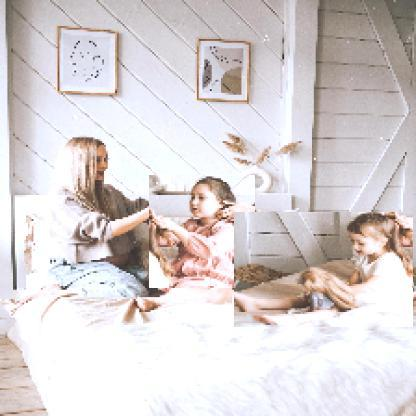child: (235, 213, 415, 329), (150, 176, 257, 290)
